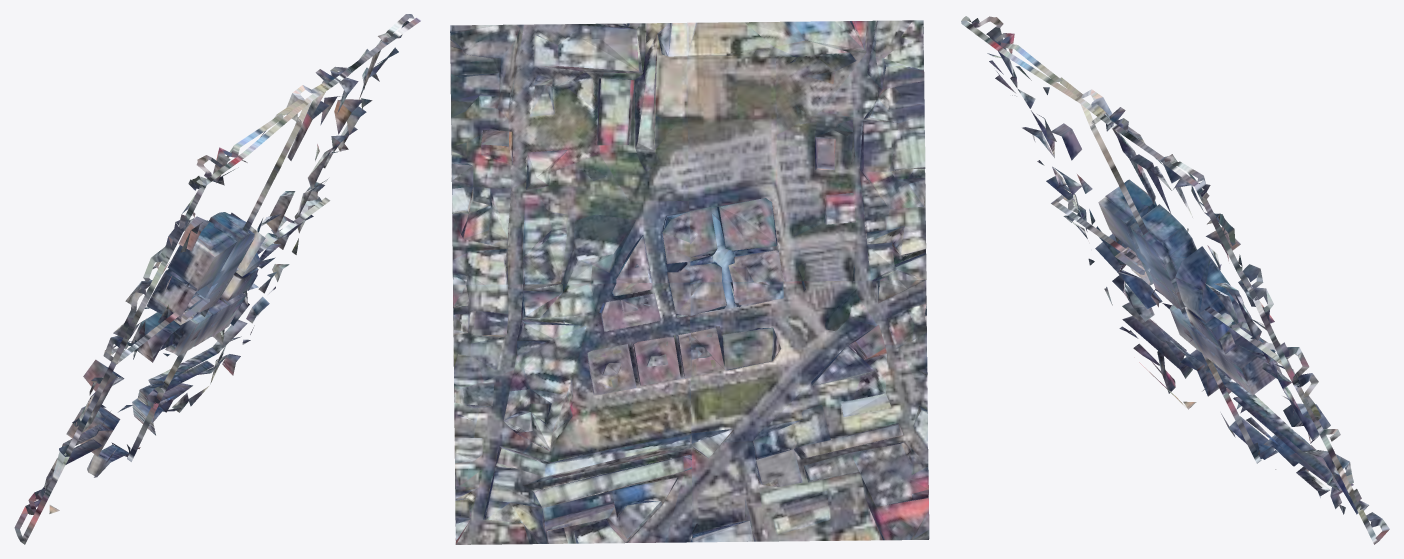
3 renders of one model, left to right at view 1: azimuth 30°, elevation 25°; view 2: azimuth 150°, elevation 25°; view 3: azimuth 270°, elevation 25°, orthographic. The views are drawn at different scales.
Bounding box in the file's own units: 617 × 566 × 529.
Materials: 1 (1 with a texture image).
